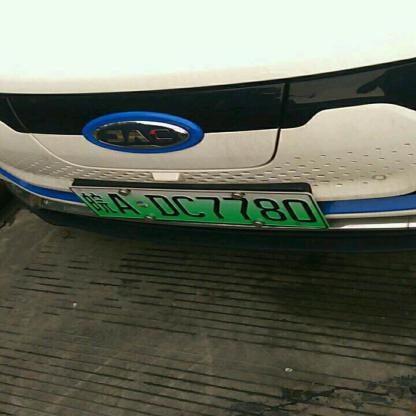lp: (68, 188, 327, 227)
